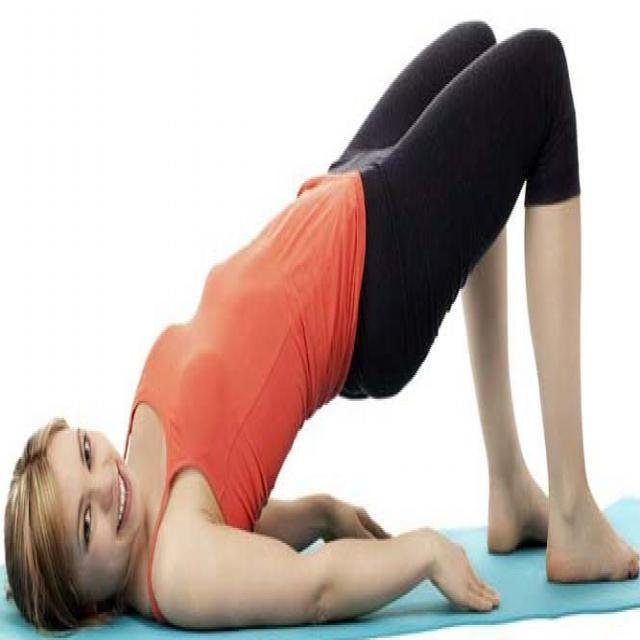yoga-pose bridge: (8, 24, 633, 614)
